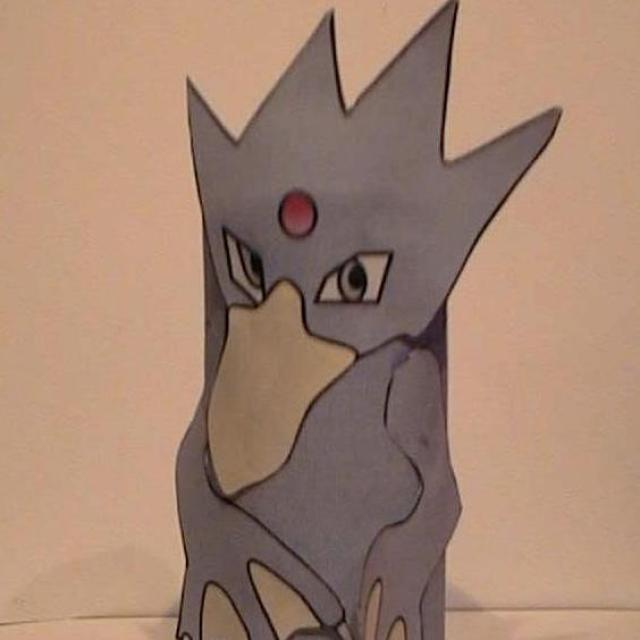Golduck: (172, 8, 478, 640)
